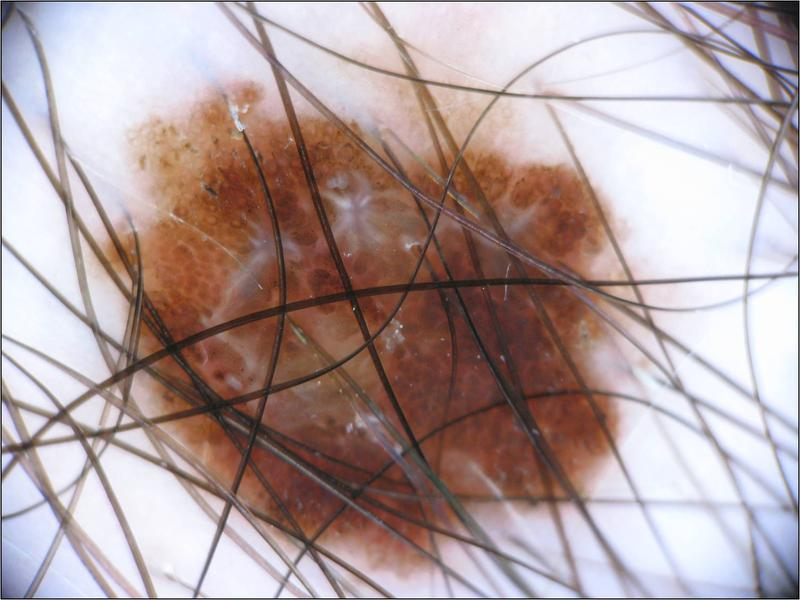Malignant: (123, 105, 600, 541)
